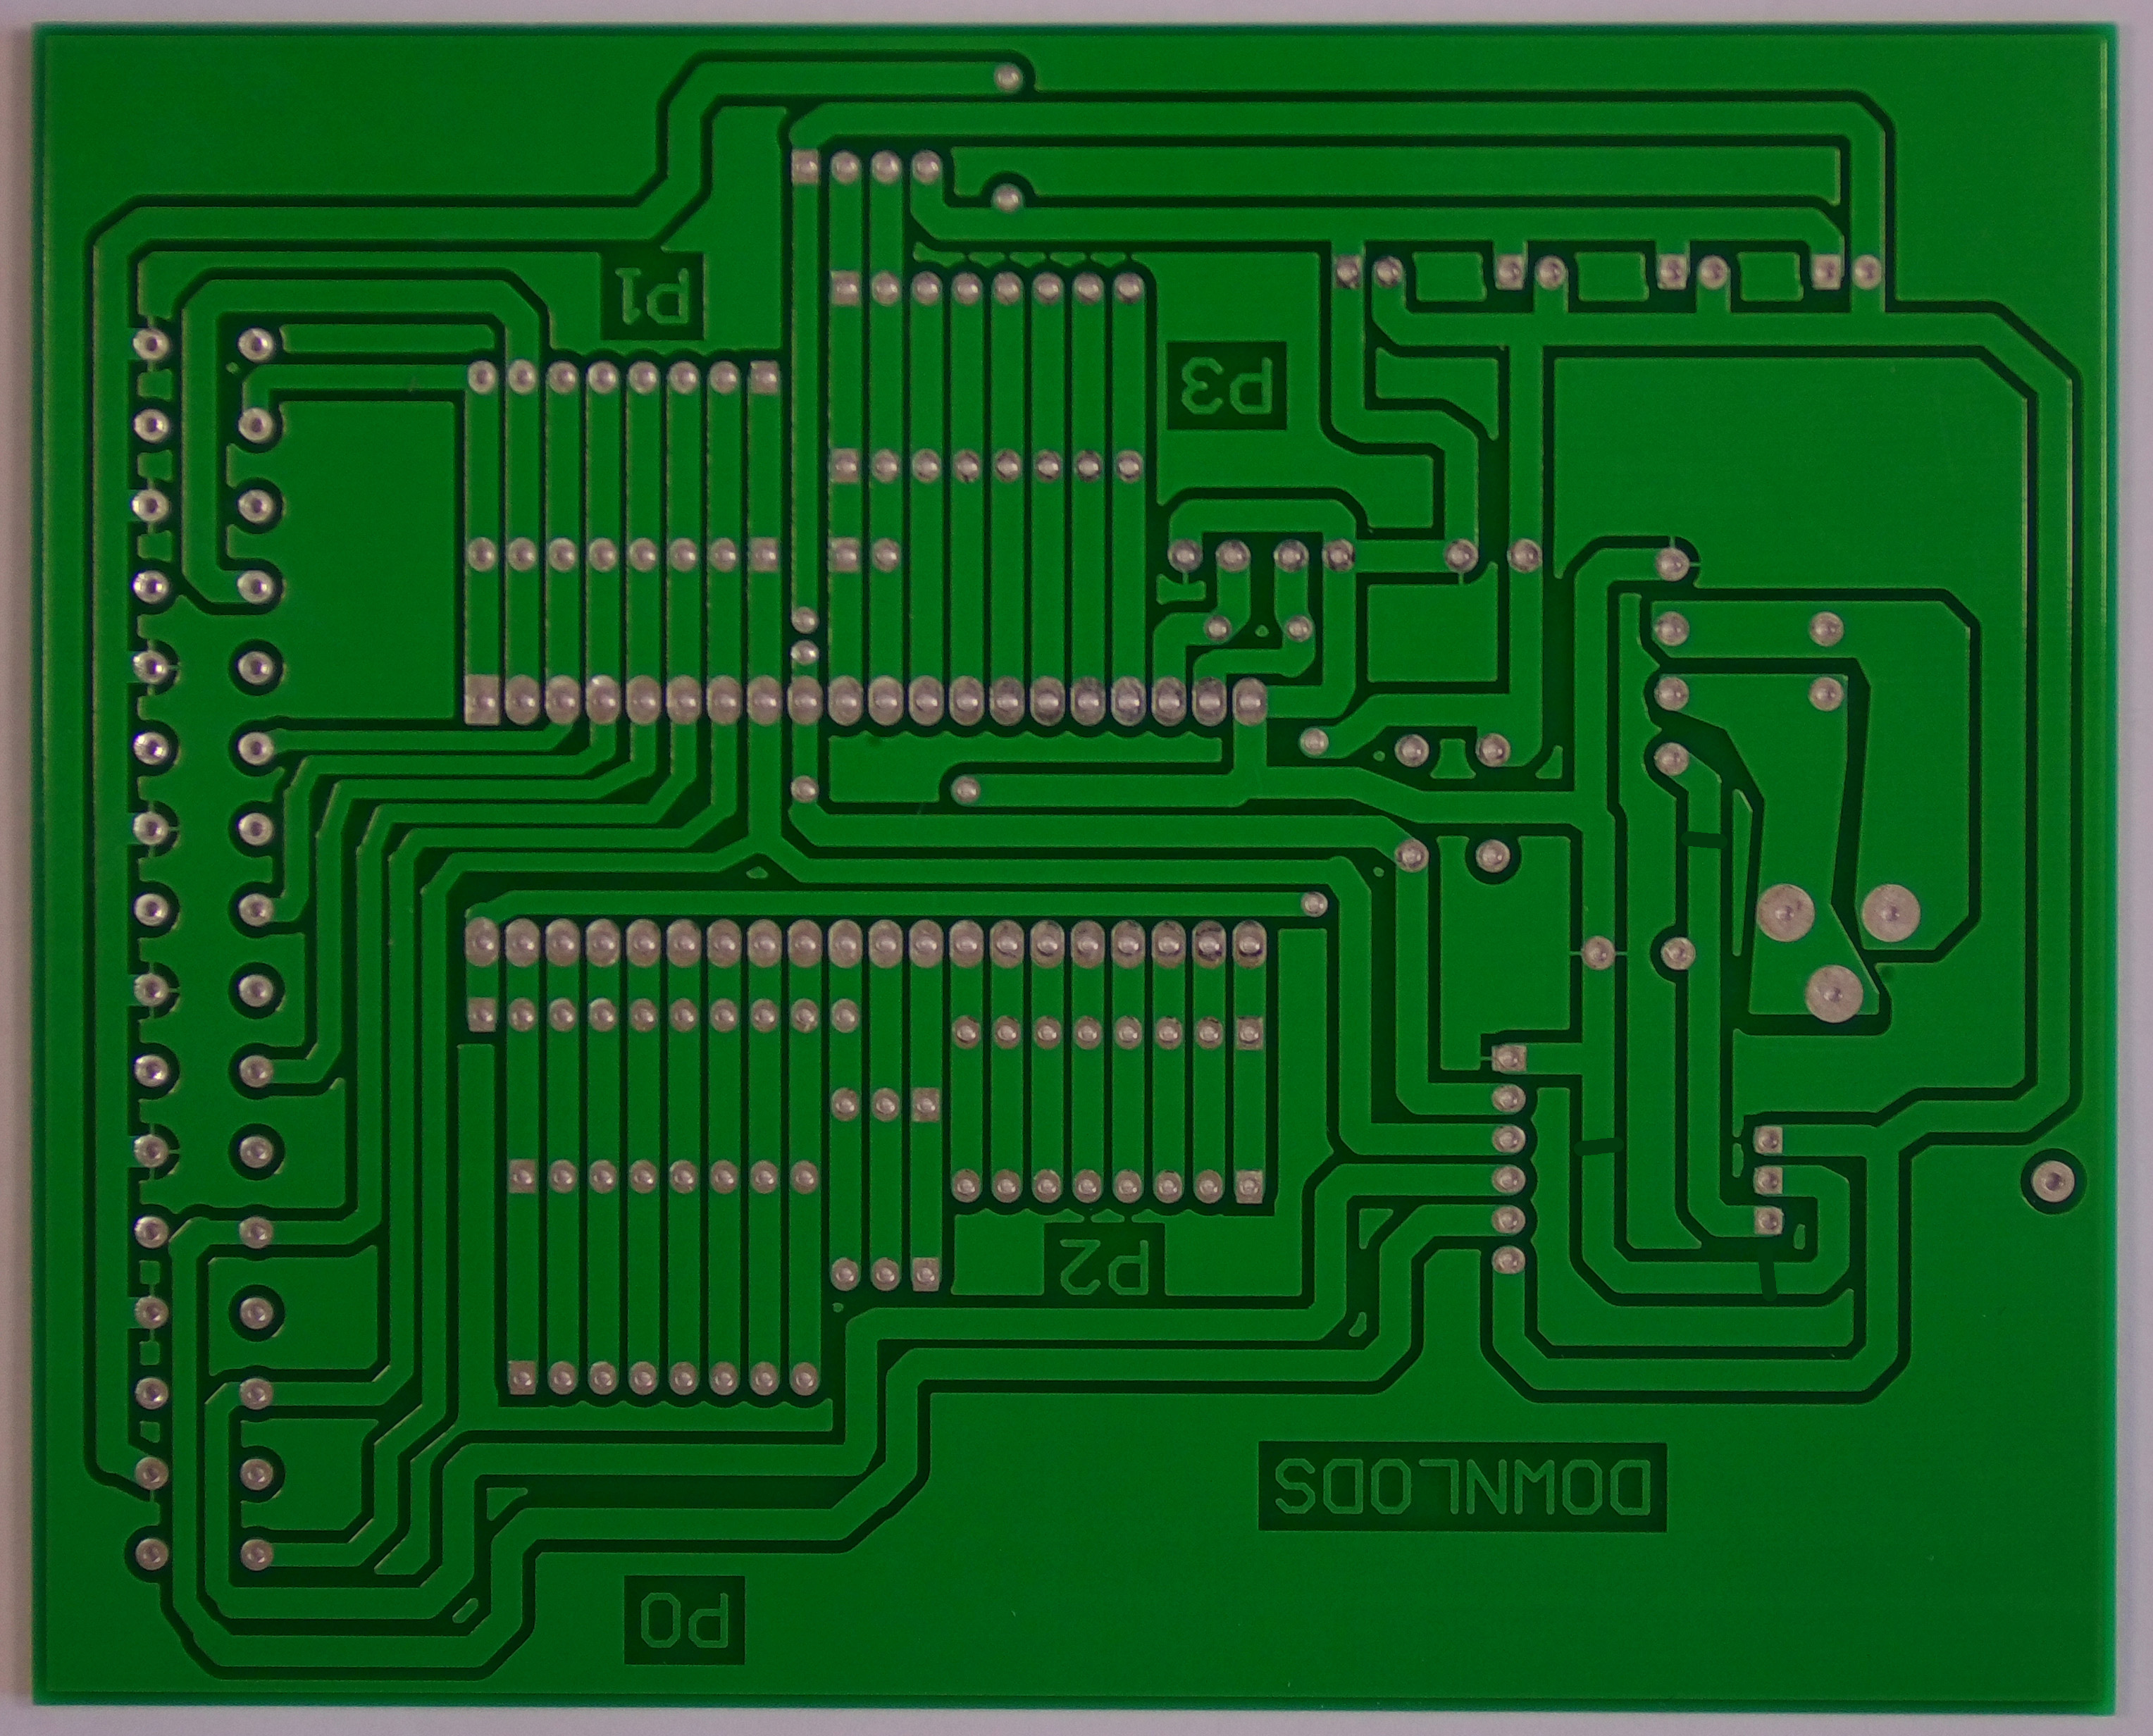open_circuit: (1742, 1251, 1790, 1303), (1684, 814, 1727, 864), (1572, 1128, 1627, 1165)
